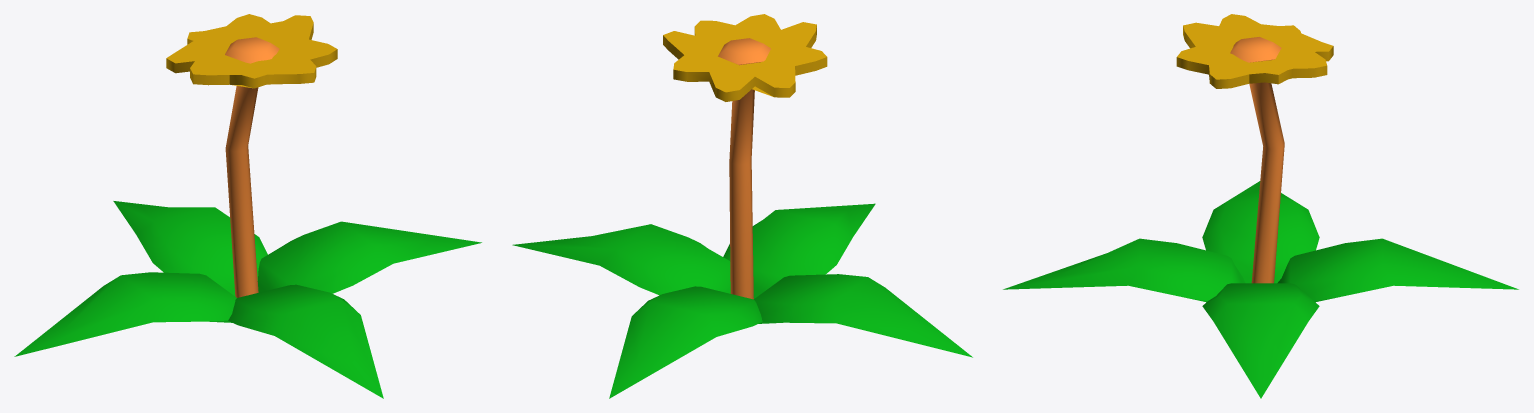
The model's file is flower-yellowish.fbx.
The picture shows the model from 3 angles, left to right: view 1: azimuth 30°, elevation 25°; view 2: azimuth 150°, elevation 25°; view 3: azimuth 270°, elevation 25°; orthographic projection. The views are drawn at different scales.
Parts seen in each view (by area): view 1: flower-yellowish; view 2: flower-yellowish; view 3: flower-yellowish.
Boxes of the visible parts, box(x1,y1,x2,y2) form: flower-yellowish: box(14, 14, 481, 398); flower-yellowish: box(512, 14, 972, 398); flower-yellowish: box(1003, 14, 1518, 398).
Bounding box in the file's own units: 0.4324 × 0.2439 × 0.4324.
